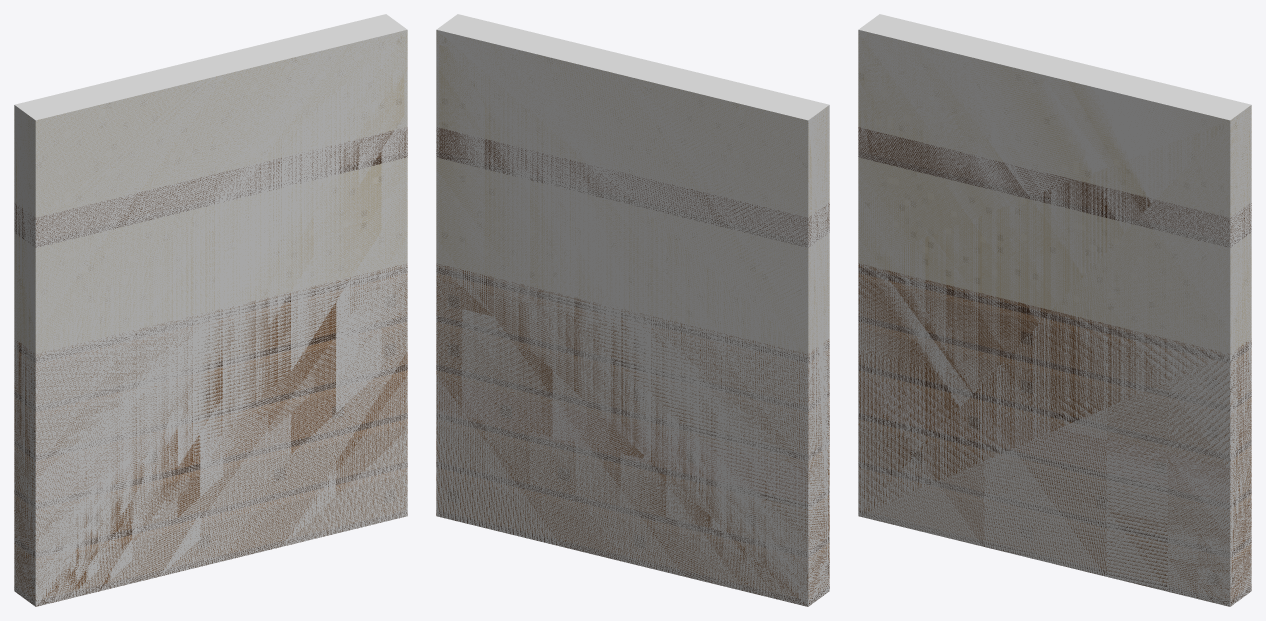
File: wall_2m.glb
3 views of the same model, side by side, from view 1: azimuth 30°, elevation 25°; view 2: azimuth 150°, elevation 25°; view 3: azimuth 330°, elevation 25° (orthographic).
Visible parts, largest first — view 1: col_wall, wall_low, wall_high; view 2: col_wall, wall_low, wall_high; view 3: col_wall, wall_low, wall_high.
Part boxes in pixels (x1,y1,x2,y2): col_wall: (14,14,407,606); wall_low: (14,264,407,606); wall_high: (14,30,407,352); col_wall: (436,14,829,606); wall_low: (436,263,829,606); wall_high: (436,31,829,353); col_wall: (858,14,1251,606); wall_low: (858,263,1251,606); wall_high: (858,31,1251,353).
Size of the model in its own units: 2 by 2.5 by 0.2.
2 materials, 2 textured.
